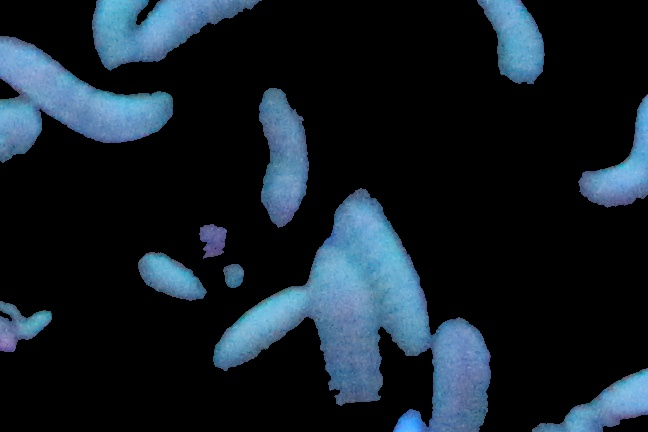larvae: (1, 41, 174, 142), (337, 196, 427, 352), (309, 250, 384, 426), (572, 91, 648, 213), (421, 311, 496, 432), (213, 286, 306, 381), (139, 1, 293, 58), (255, 86, 308, 227), (471, 1, 543, 87), (89, 1, 161, 68), (137, 254, 207, 304)
